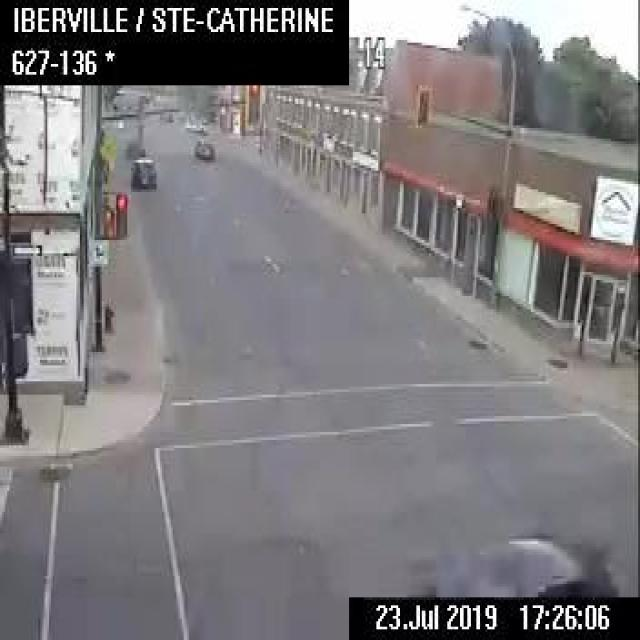vehicle: (431, 527, 622, 595), (128, 156, 156, 188), (193, 138, 213, 159)
